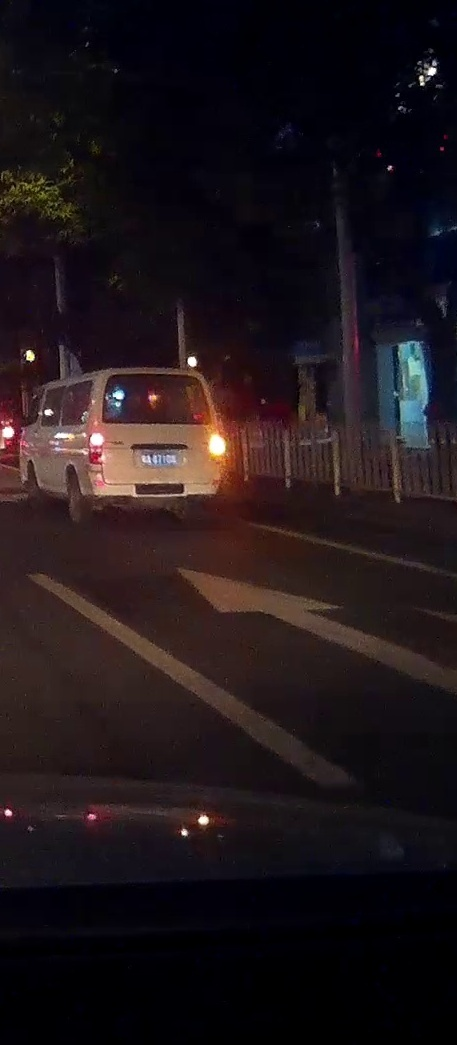L_light: (88, 432, 104, 466)
R_light: (210, 433, 226, 461)
T_light: (154, 374, 169, 380)
night-no: (87, 367, 227, 523)
